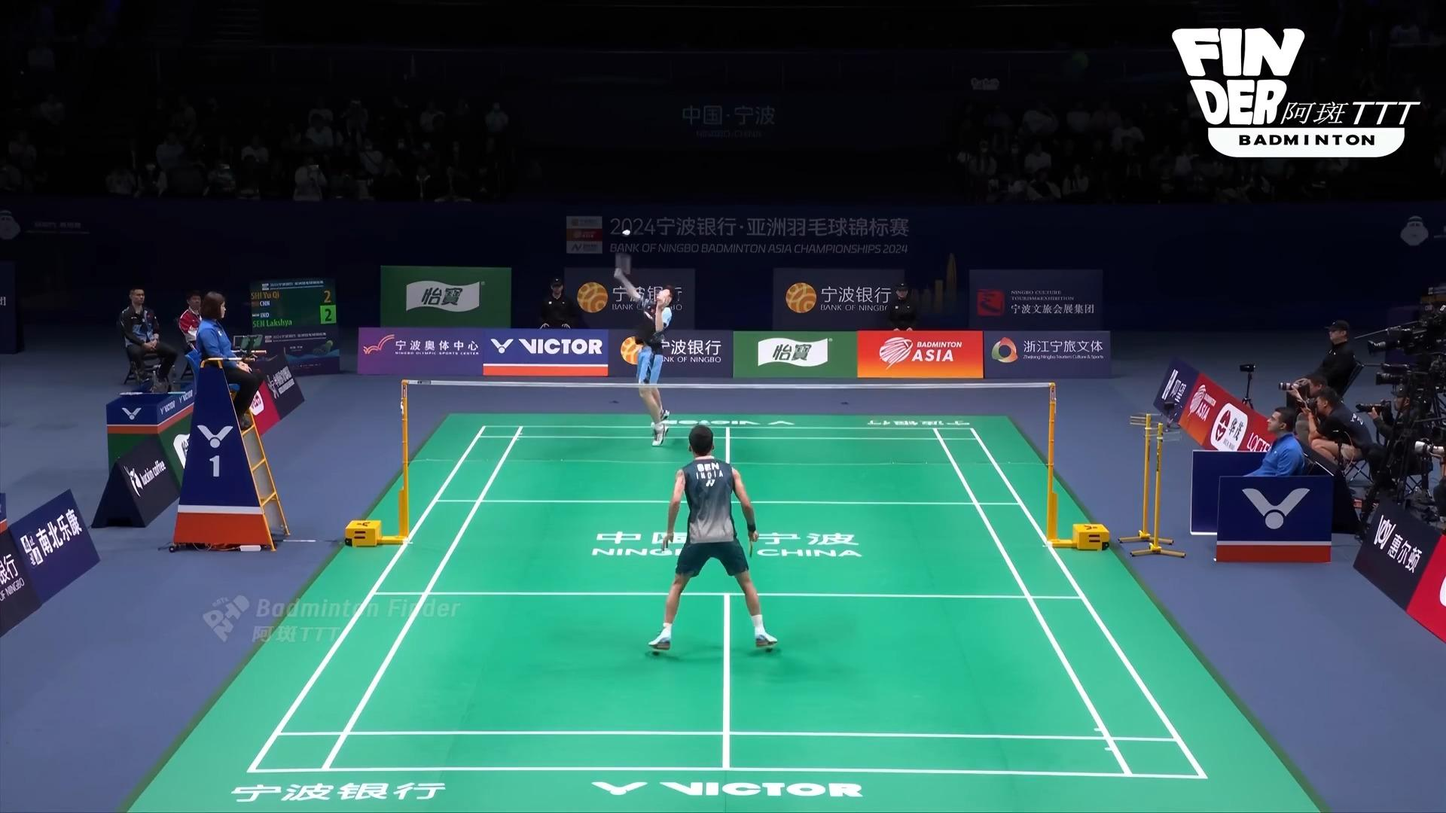shuttlecock: (621, 228, 631, 236)
